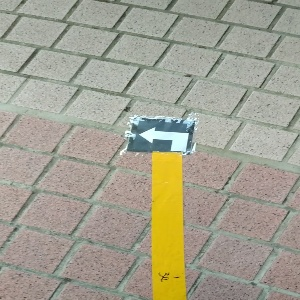left: (126, 116, 195, 153)
